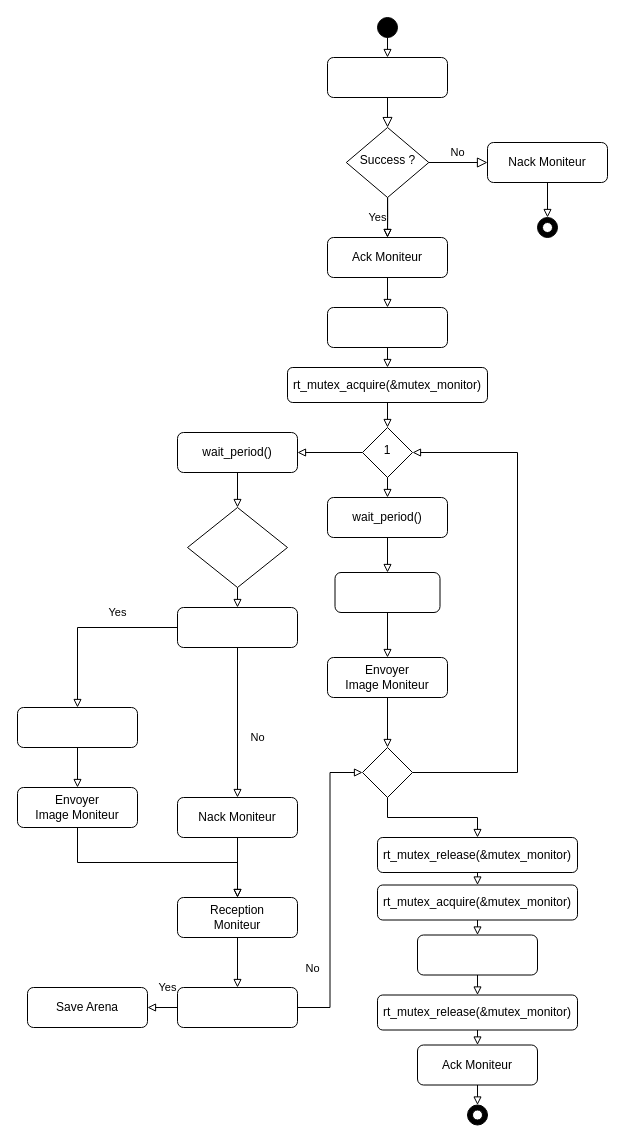
The diagram is 625 pixels wide and 1143 high, and some of its shapes have lost their labels. Here are the shapes that lost their labels. From the top down, the centre of each, then its label:
At [387,77]: "Camera::Open()".
At [387,327]: "Set_period(100)".
At [237,547]: "Reception find arena".
At [387,592]: "camera.grab()".
At [237,627]: "img::SearchArena()".
At [77,727]: "Img::DrawArena".
At [477,954]: "Camera::Close()".
At [237,1007]: "Arena Confirm ?".
